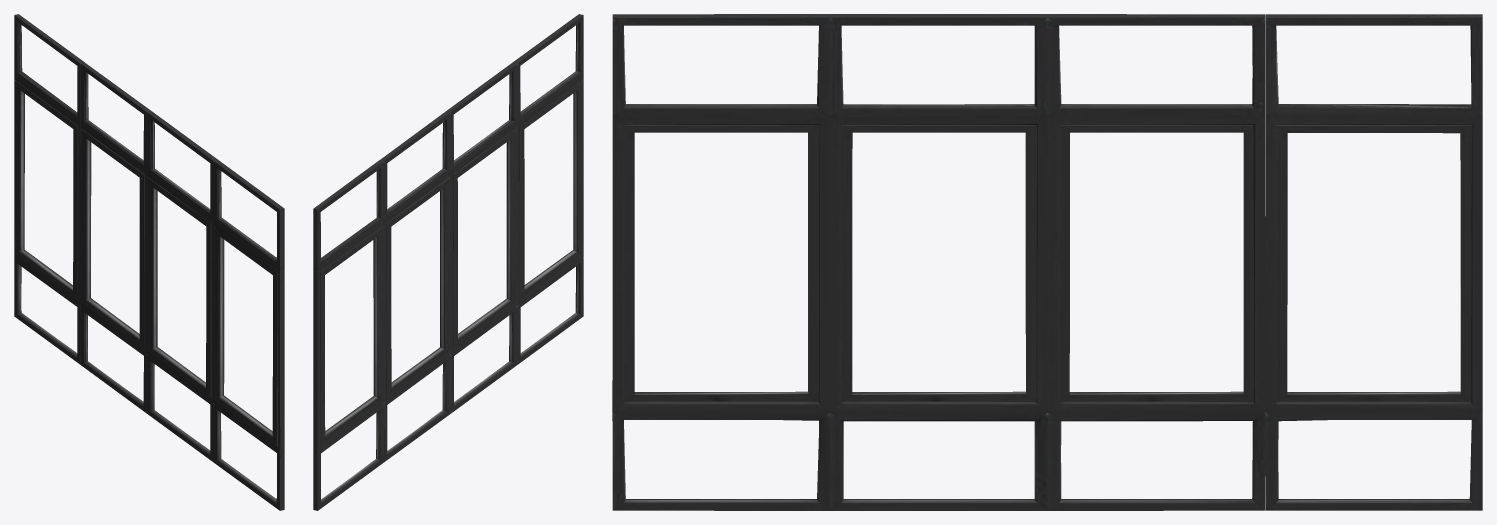
File: Window4_0002.obj
3 views of the same model, side by side, from view 1: azimuth 30°, elevation 25°; view 2: azimuth 150°, elevation 25°; view 3: azimuth 270°, elevation 25° (orthographic). The views are drawn at different scales.
Bounding box in the file's own units: 0.033 × 1.58 × 2.52.
Materials: 1 (1 with a texture image).
